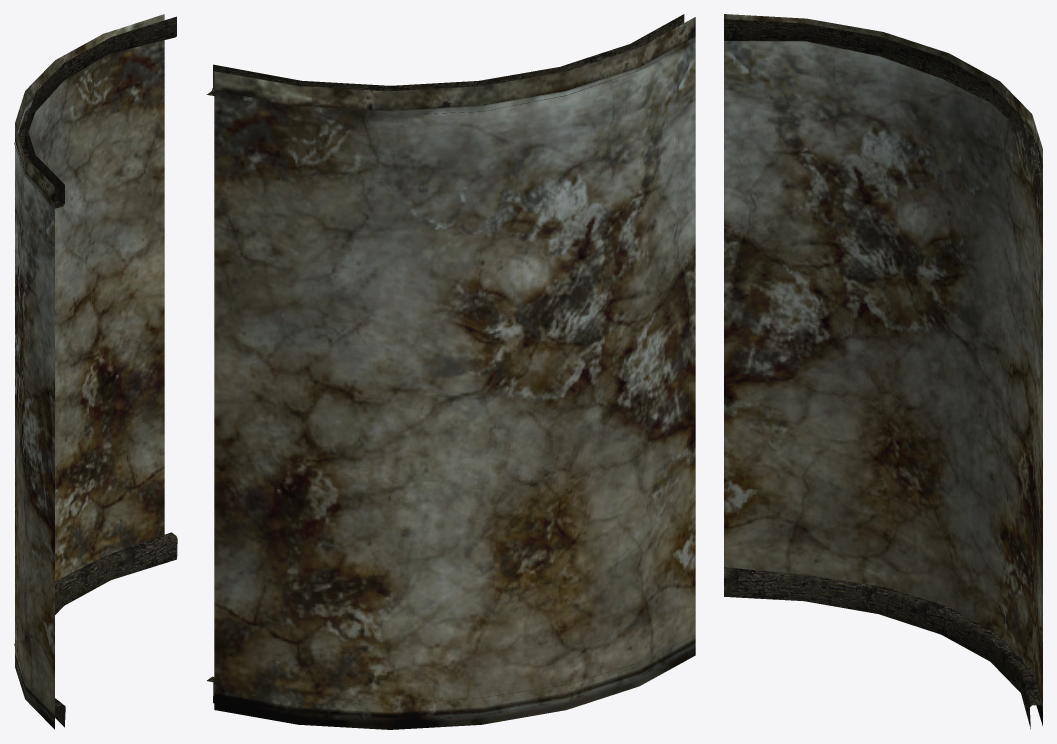
Rendered from cellar_wall_03_corner_small.DAE.
3 renders of one model, left to right at view 1: azimuth 30°, elevation 25°; view 2: azimuth 150°, elevation 25°; view 3: azimuth 270°, elevation 25°, orthographic. The views are drawn at different scales.
Visible parts, largest first — view 1: Box052, Box053; view 2: Box052, Box053; view 3: Box052, Box053.
Boxes of the visible parts, left/top/right/bottom form: Box052: left=15, top=14, right=164, bottom=729; Box053: left=14, top=16, right=177, bottom=727; Box052: left=214, top=17, right=695, bottom=729; Box053: left=206, top=14, right=684, bottom=704; Box052: left=724, top=14, right=1042, bottom=725; Box053: left=724, top=19, right=1042, bottom=729.
Size of the model in its own units: 2.05 by 4 by 2.
